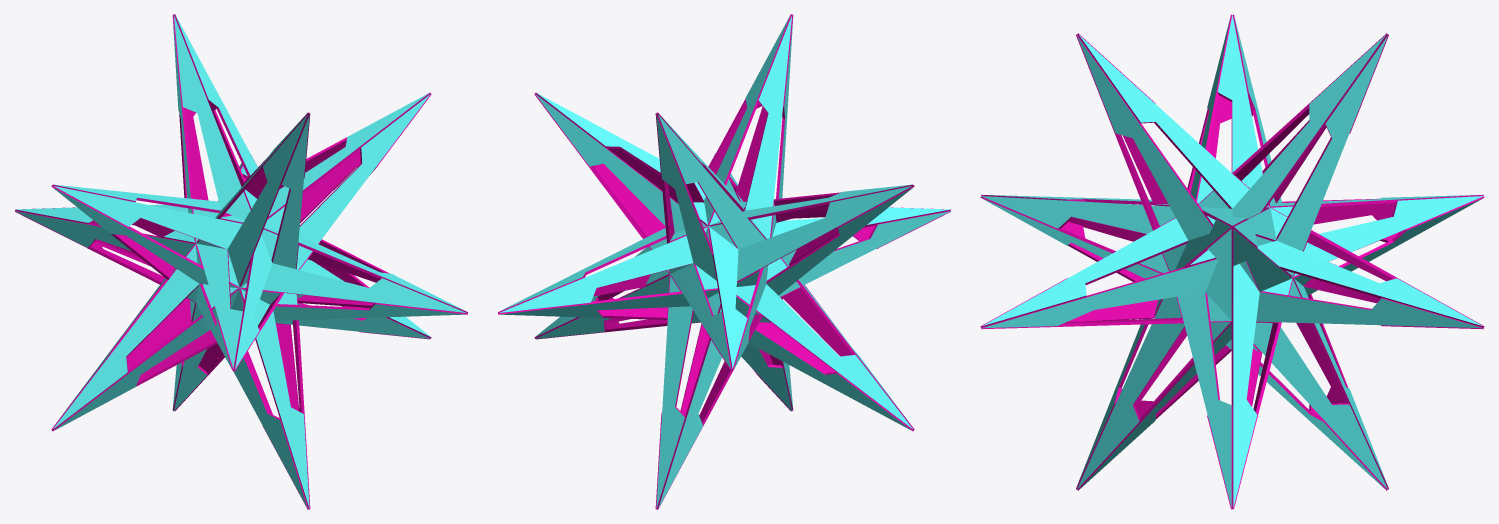
File: MedialTriambicIcosahedronS.glb
The picture shows the model from 3 angles, left to right: view 1: azimuth 30°, elevation 25°; view 2: azimuth 150°, elevation 25°; view 3: azimuth 270°, elevation 25°; orthographic projection. The views are drawn at different scales.
Parts seen in each view (by area): view 1: Mesh_0010_1, Mesh_0010; view 2: Mesh_0010_1, Mesh_0010; view 3: Mesh_0010_1, Mesh_0010.
Boxes of the visible parts, box(x1,y1,x2,y2) form: Mesh_0010_1: box(15, 14, 466, 508); Mesh_0010: box(15, 14, 467, 509); Mesh_0010_1: box(499, 14, 950, 508); Mesh_0010: box(498, 14, 950, 509); Mesh_0010_1: box(981, 14, 1483, 507); Mesh_0010: box(980, 14, 1484, 509).
Bounding box in the file's own units: 7.87 × 7.87 × 7.87.
